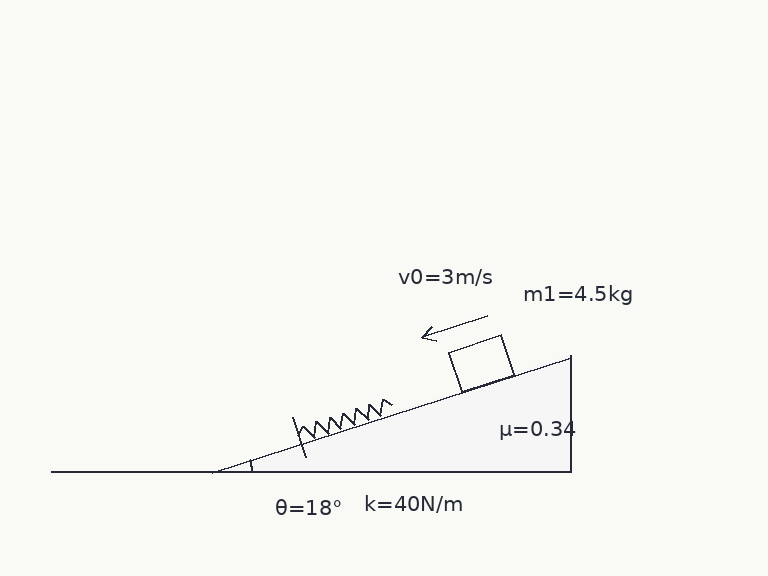block: (446, 333, 516, 393)
ramp: (210, 354, 572, 474)
spring: (297, 398, 394, 439)
